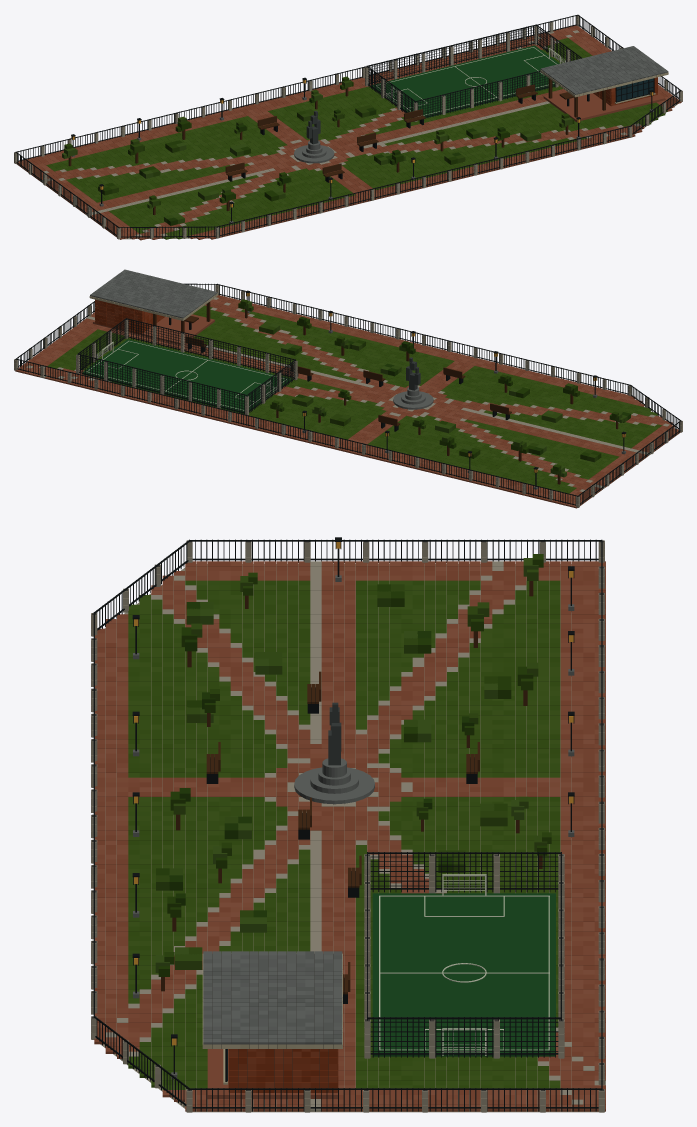
File: SM_Mapa_062.fbx
3 views of the same model, one above another, from view 1: azimuth 30°, elevation 25°; view 2: azimuth 150°, elevation 25°; view 3: azimuth 270°, elevation 25° (orthographic). The views are drawn at different scales.
Parts seen in each view (by area): view 1: SM_Mapa_062; view 2: SM_Mapa_062; view 3: SM_Mapa_062.
Part boxes in pixels (x1,y1,x2,y2): SM_Mapa_062: [14, 14, 682, 240]; SM_Mapa_062: [14, 269, 682, 508]; SM_Mapa_062: [91, 537, 605, 1112].
Bounding box in the file's own units: 80 × 31.59 × 5.96.
